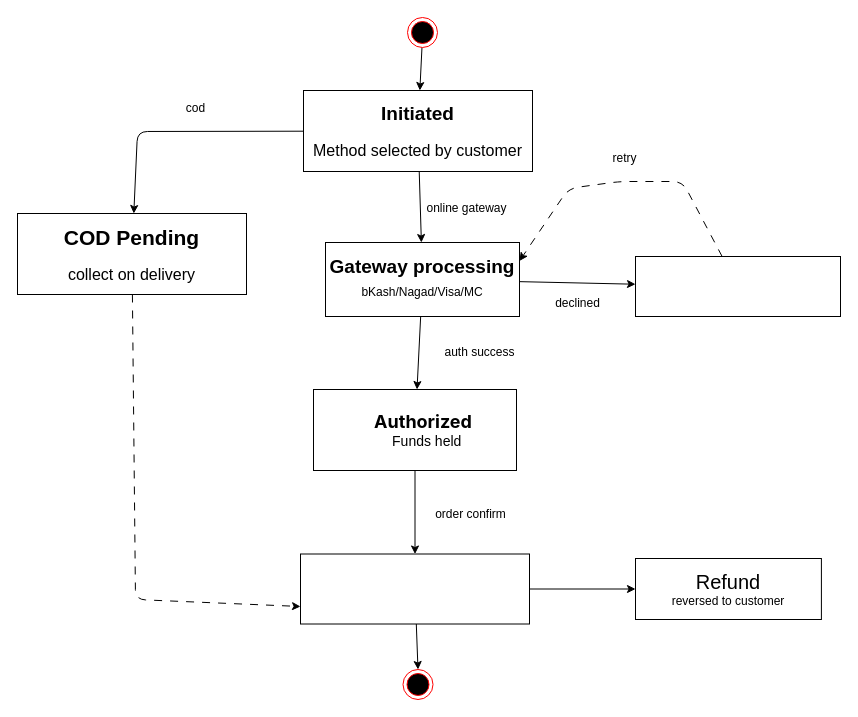
This 858x717 diagram has some shape labels left out. Each missing label, with the box of its shape:
Collected Funds settled to vendor: (300, 553, 530, 624)
Failed Failover triggered: (634, 256, 840, 316)
